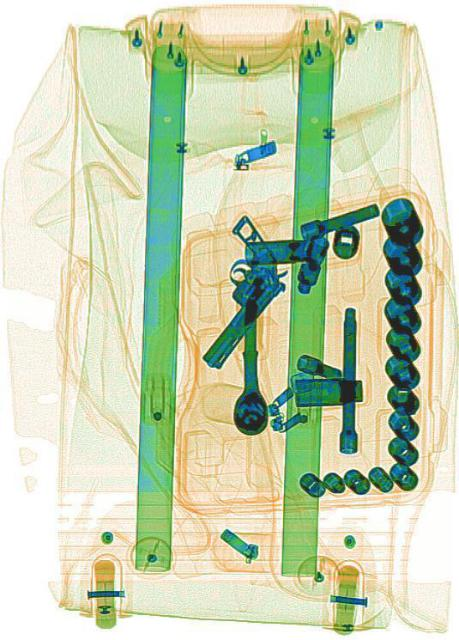Gun: (165, 210, 292, 372)
